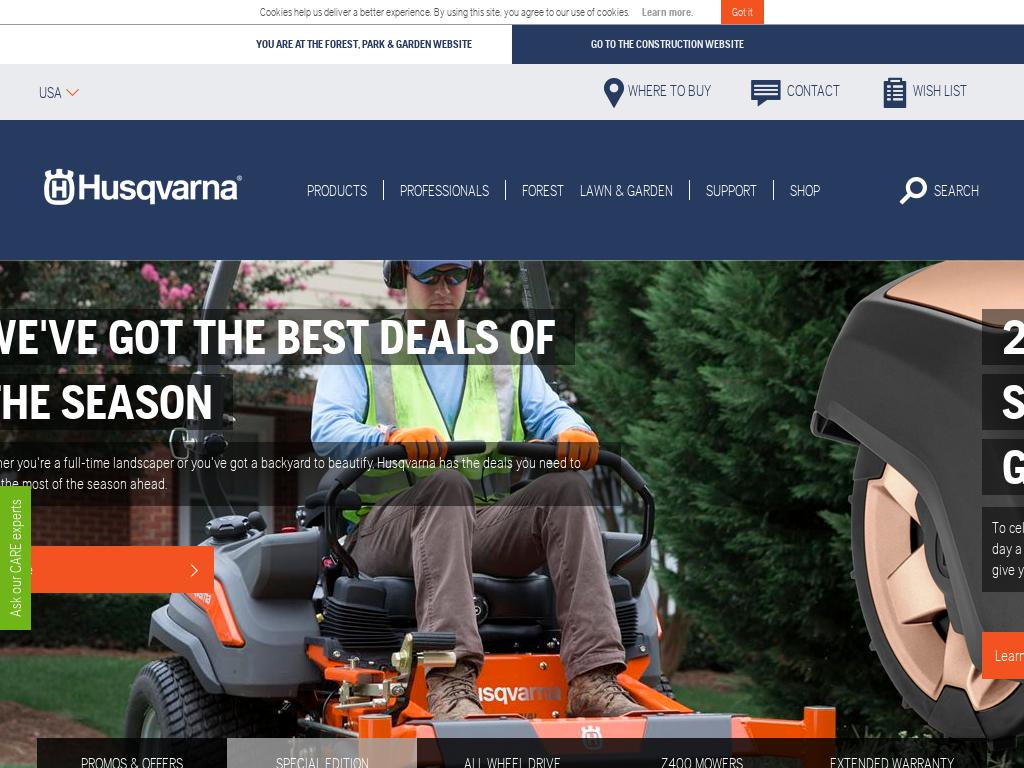button: (591, 25, 984, 65), (17, 160, 269, 221), (37, 546, 293, 594), (579, 67, 731, 118), (572, 160, 681, 221), (731, 67, 860, 118), (860, 67, 987, 118), (392, 160, 497, 221), (890, 160, 987, 221), (299, 160, 375, 221), (698, 160, 765, 221), (514, 160, 572, 221), (19, 72, 100, 114), (782, 160, 828, 221), (721, 0, 764, 25)
image: (37, 162, 249, 215)
text: (57, 309, 634, 431), (37, 442, 701, 507), (79, 25, 472, 65), (37, 738, 227, 768), (227, 738, 417, 768), (417, 738, 607, 768), (607, 738, 797, 768), (797, 738, 987, 768), (0, 485, 31, 630), (260, 6, 632, 18), (50, 559, 250, 581), (580, 181, 673, 205), (400, 181, 489, 205), (307, 181, 367, 205), (628, 82, 711, 99), (706, 181, 757, 205), (934, 181, 979, 205), (522, 181, 564, 205), (632, 5, 703, 19), (913, 82, 967, 99), (787, 82, 840, 99), (790, 181, 820, 205), (39, 84, 65, 102)
